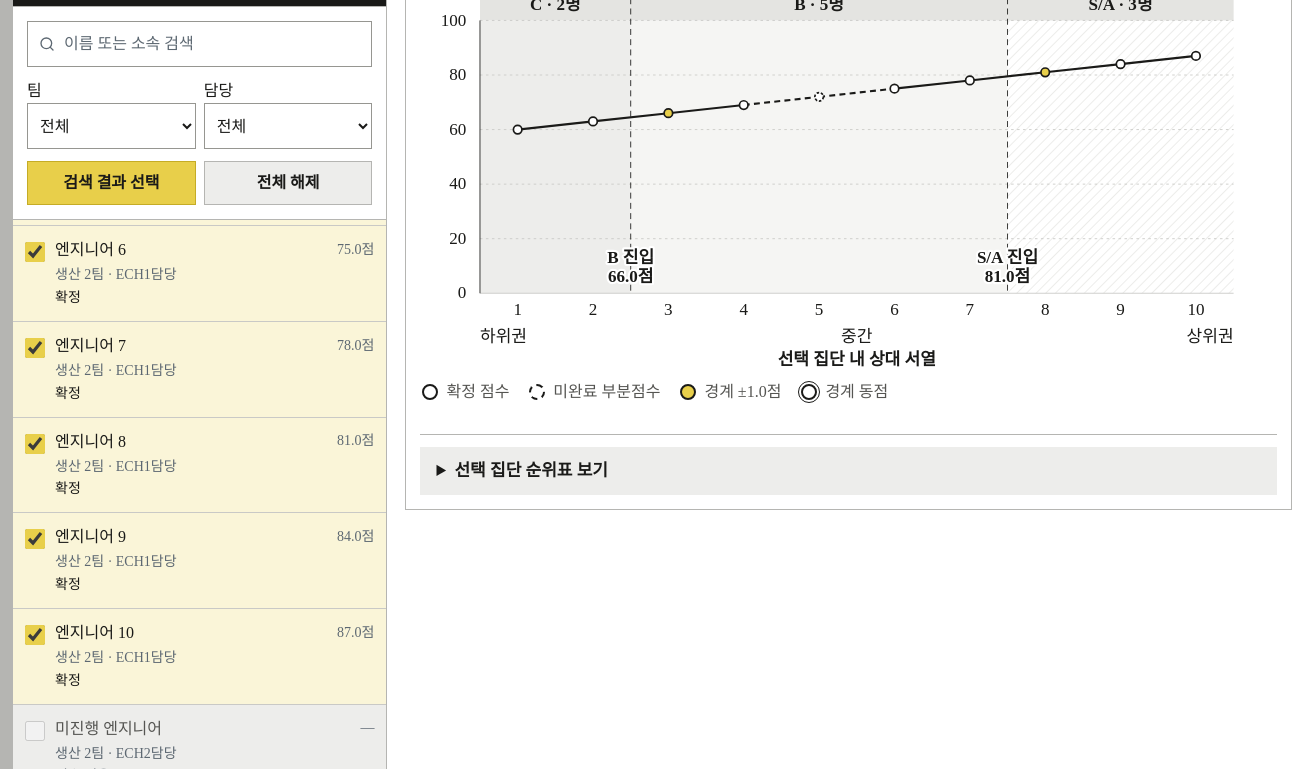
Scenario: RelativeRankingSection › selects every scored engineer and recalculates bands when one is excluded
The image size is (1292, 769).
(page scrolled)
Click the checkbox named "엔지니어 10 분석 포함". click: (35, 635)
box: [25,625,45,645]
(page scrolled)
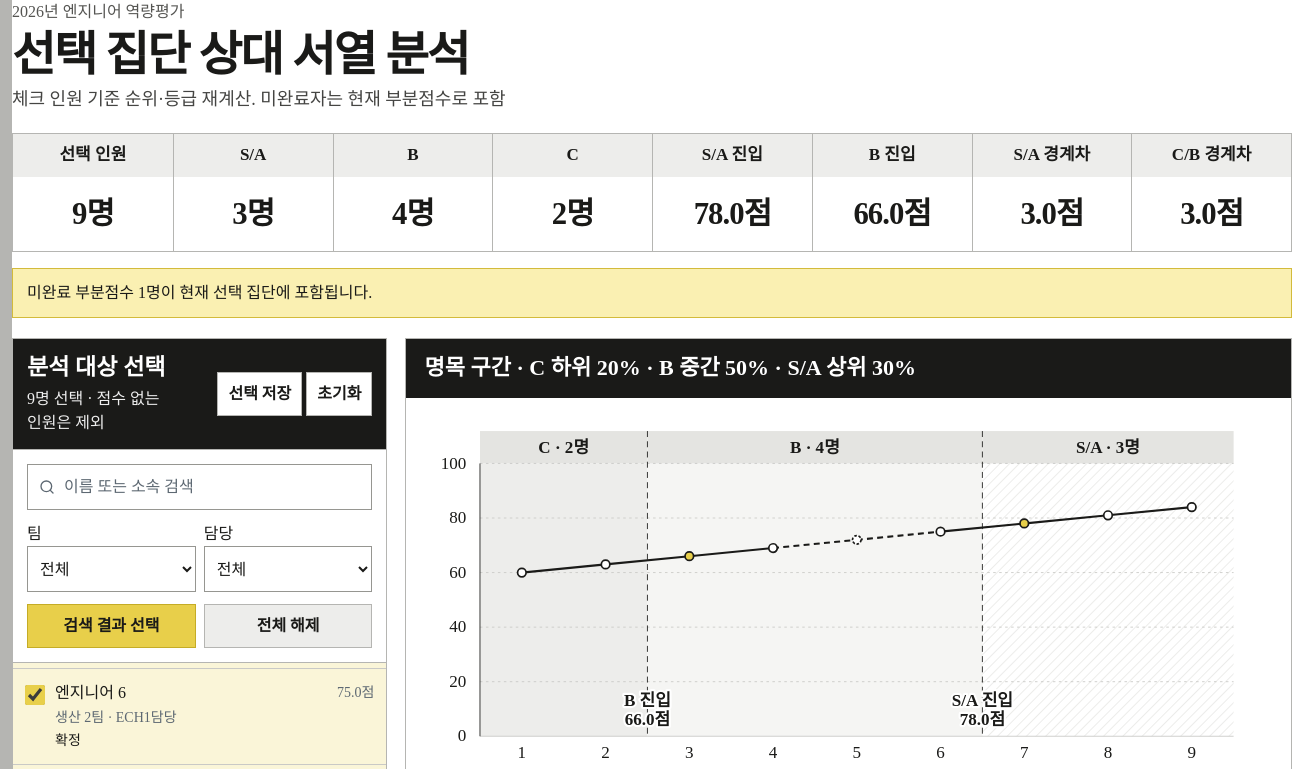
expect the text "9명" is shown: met, box [72,197,114,231]
expect the text "4명" is shown: met, box [392,197,434,231]
expect the text "78.0점" below "S/A 경계차" is shown: met, box [694,197,771,231]
